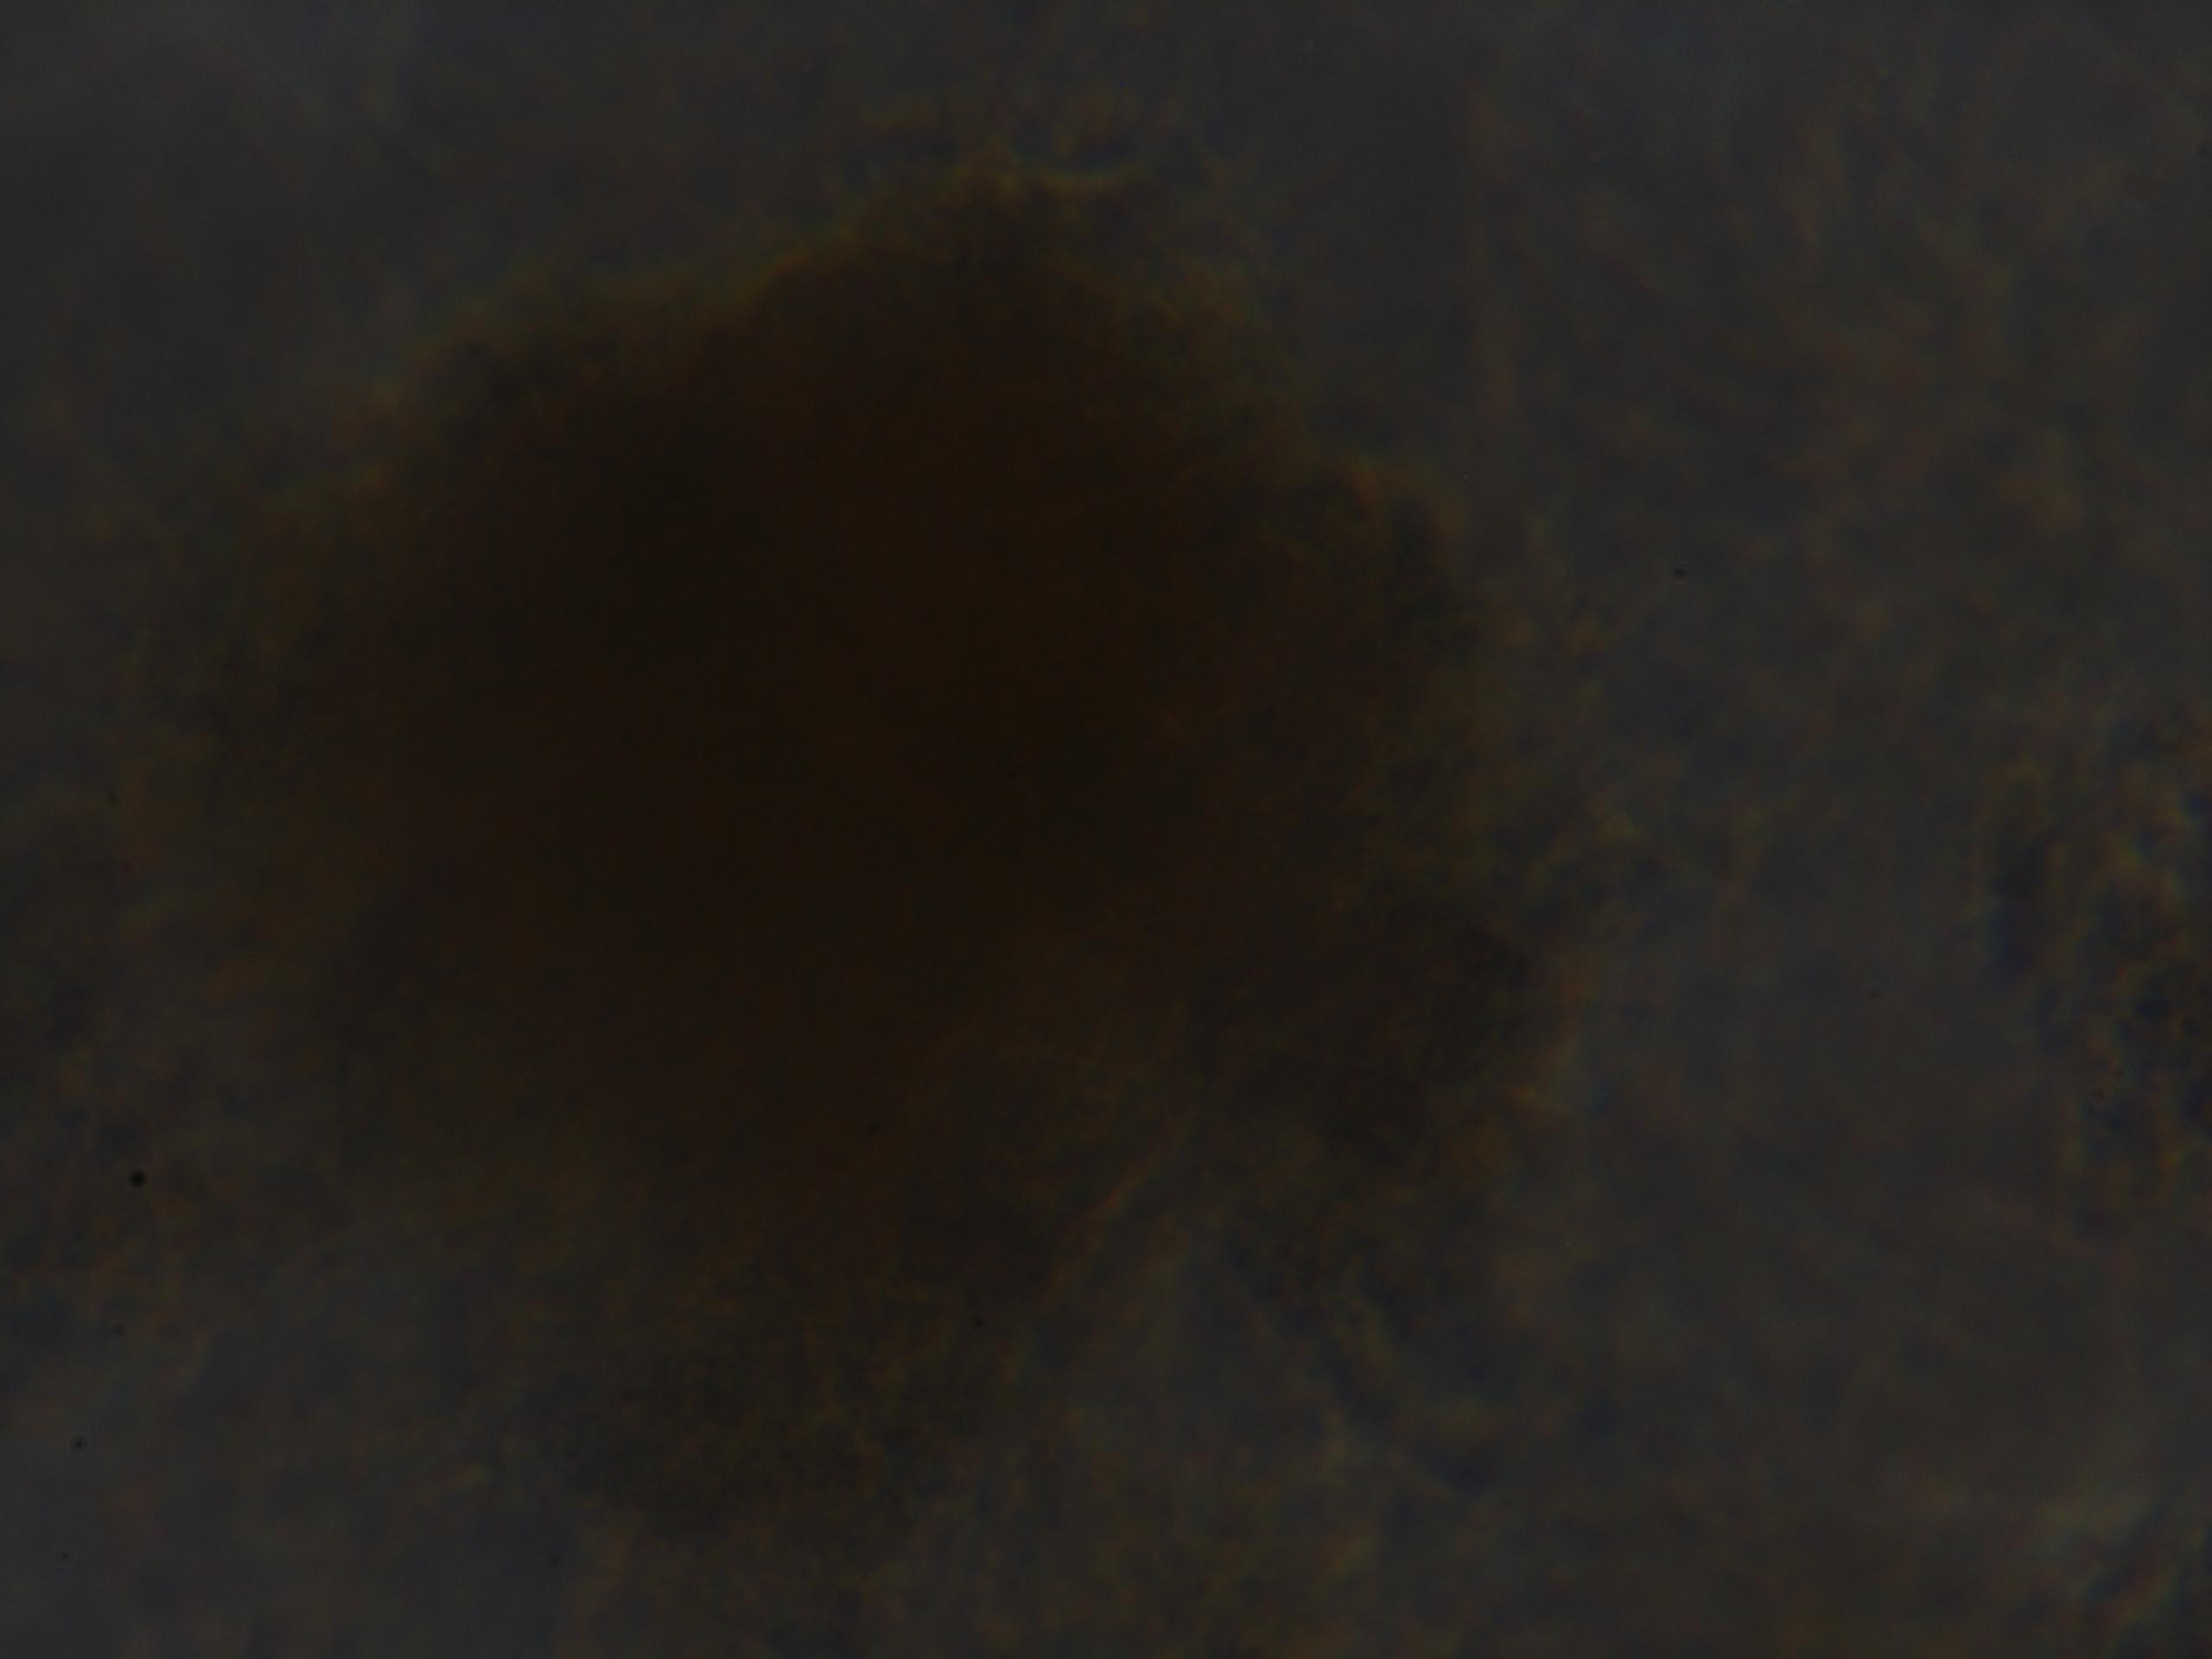spherical_floc: (204, 186, 1557, 1575)
